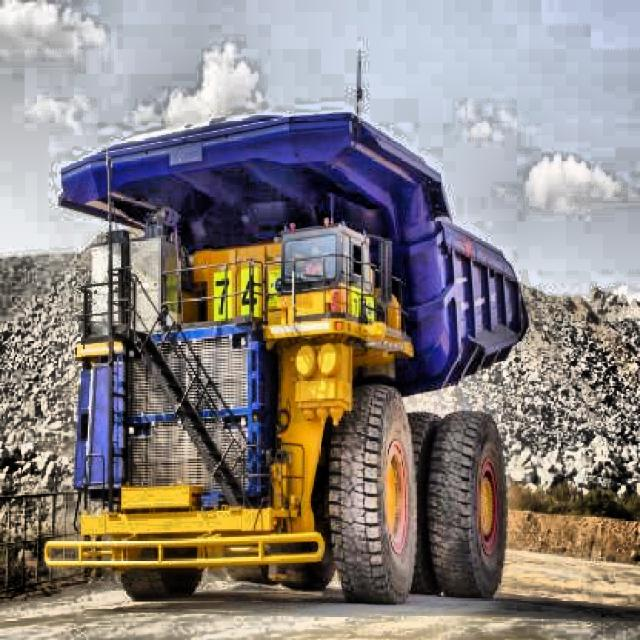dump_truck: (40, 97, 530, 631)
